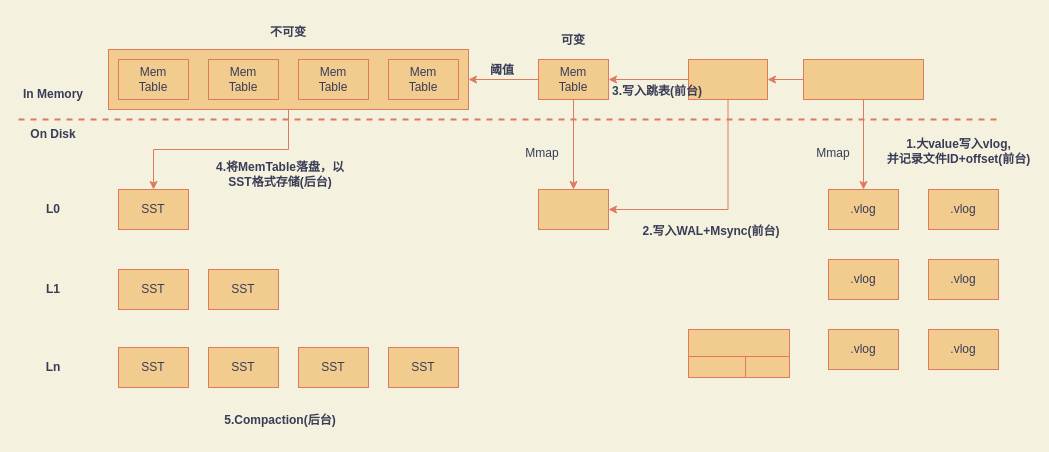
Some shapes in this 1049 by 452 pixel diagram are drawn without their labels. Here are the shapes that lost their labels. From the top down, the box of each, then its label:
(688, 58, 768, 100): key+vptr
(802, 58, 924, 100): value
(538, 188, 608, 230): WAL(.mem)
(688, 328, 790, 356): vptr
(688, 356, 746, 378): File ID
(744, 356, 790, 378): Offset
